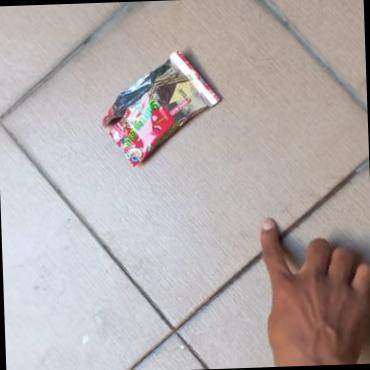Plastik: (100, 48, 224, 168)
